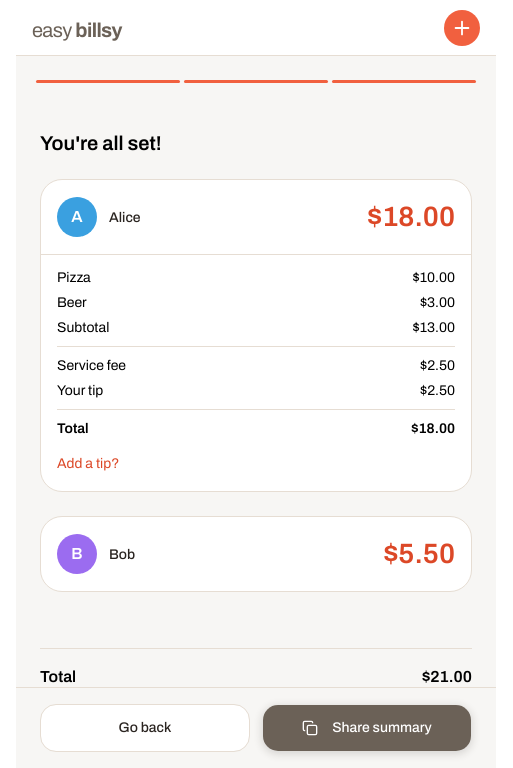
Test: PersonResultsScreen › service fee › 2 people, 500 fee: 2.50 rows, totals and grand total include the fee
expect the text "Service fee" is shown once: met, box [57, 355, 126, 376]
expect the element with test id "results-service-fee" shows "$2.50": met, box [420, 358, 455, 373]
Click the button with aria-label "Bob's breakdown" at (77, 554), box [57, 534, 455, 574]
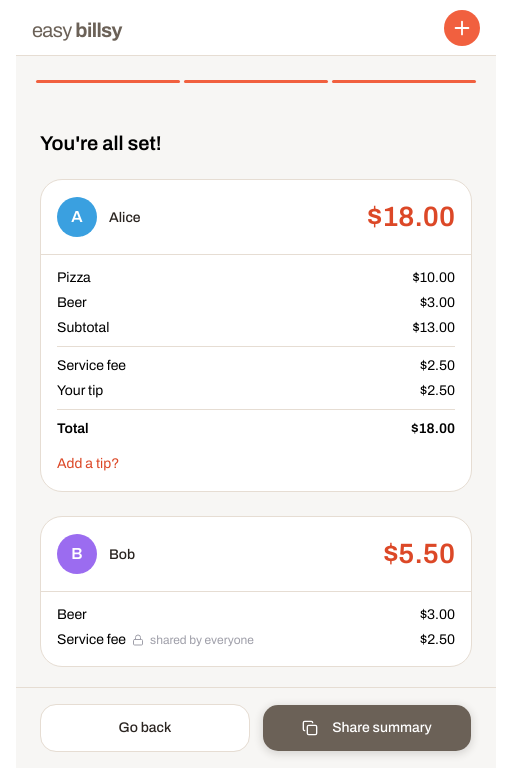
expect the element with test id "results-service-fee-p2" shows "$2.50": met, box [420, 632, 455, 647]
